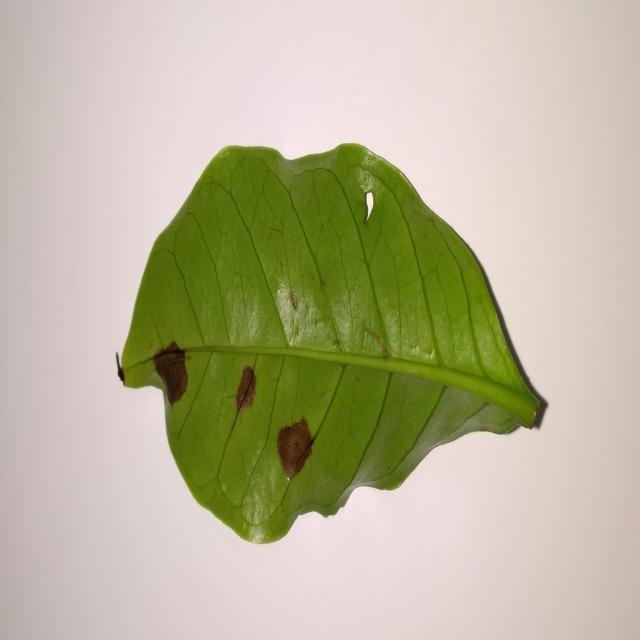Enfermedad-Antracnosis: (116, 142, 548, 548)
